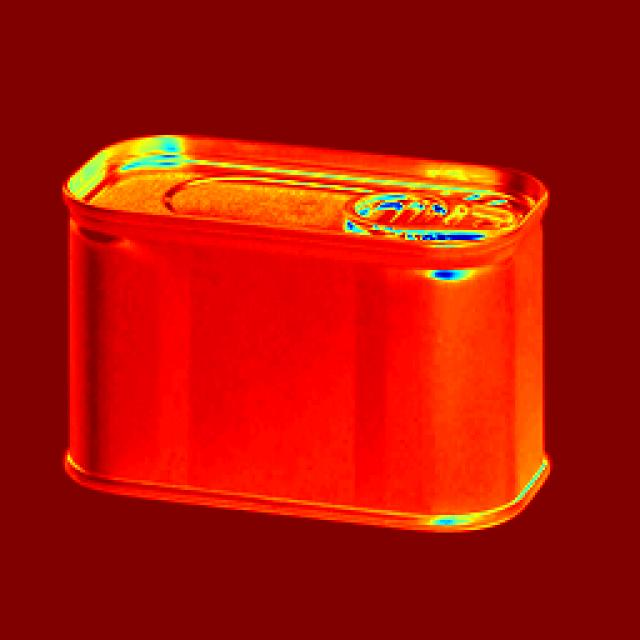Aluminium Food Cans: (60, 124, 557, 545)
